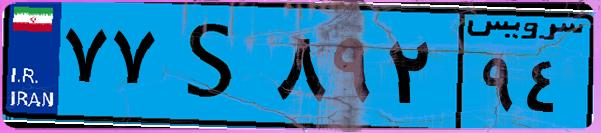2: (385, 28, 445, 110)
4: (525, 38, 570, 115)
7: (57, 26, 110, 100), (110, 28, 158, 98)
8: (270, 28, 330, 110)
9: (330, 28, 385, 110), (475, 38, 525, 113)
S: (158, 12, 270, 120)
